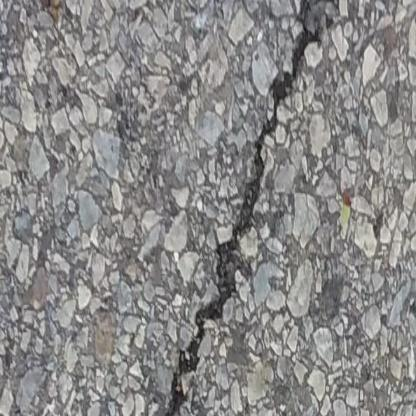Cracks: (148, 0, 362, 416)
